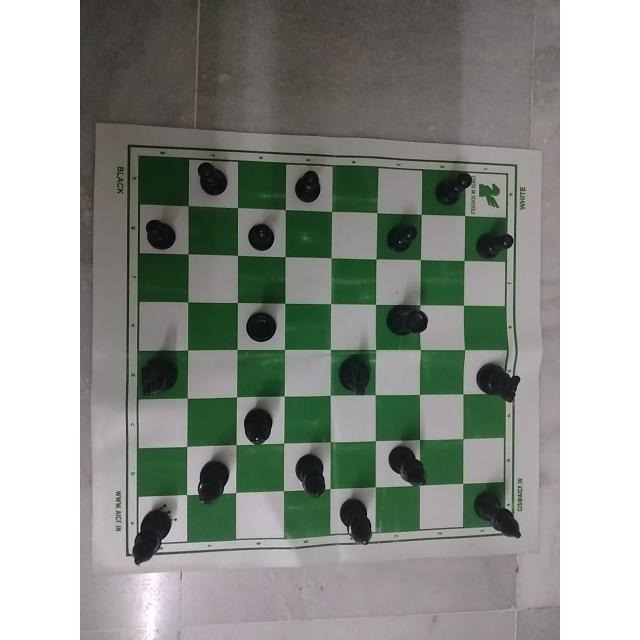black-bishop: (118, 503, 179, 573), (470, 483, 528, 541), (237, 396, 287, 452), (186, 449, 232, 509), (384, 442, 431, 497), (334, 497, 380, 552), (283, 448, 329, 500)
black-knight: (128, 349, 191, 403), (473, 350, 525, 404), (327, 348, 377, 400)
black-pawn: (466, 222, 522, 262), (283, 162, 331, 208), (190, 160, 232, 210), (433, 162, 477, 209), (135, 213, 179, 259), (381, 216, 424, 260), (243, 213, 282, 253)
black-rook: (234, 302, 282, 353), (381, 303, 431, 342)
